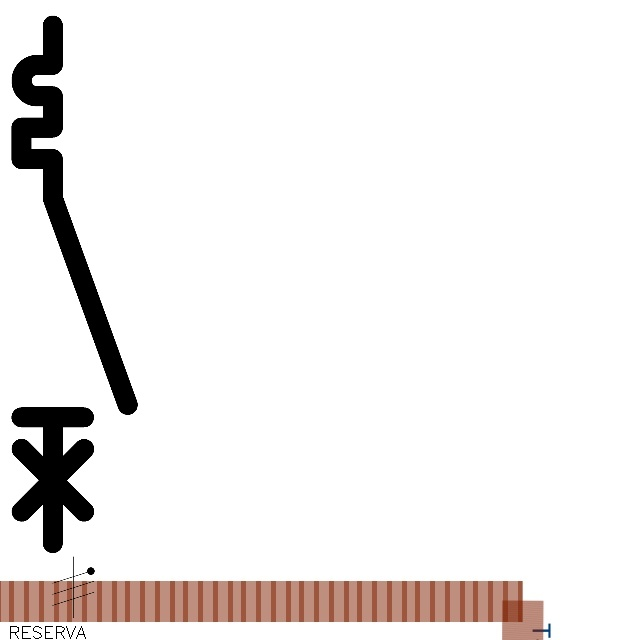interruptor_termomagnetico: (8, 12, 141, 556)
